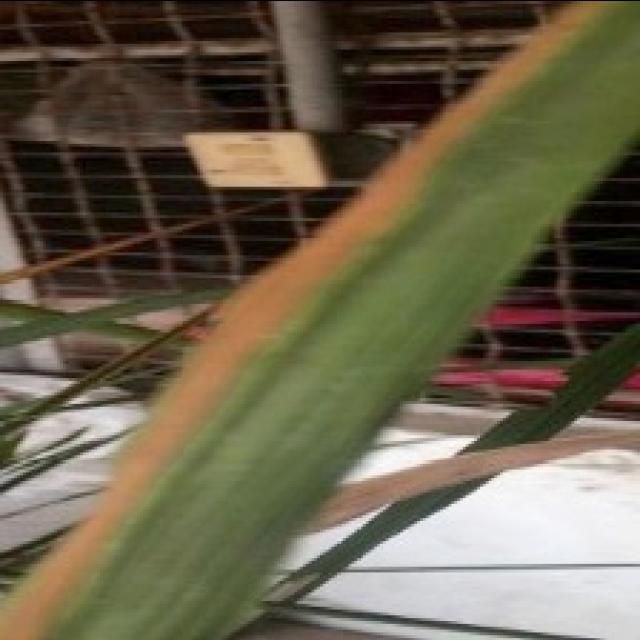Unhealthy: (0, 0, 628, 640), (306, 437, 640, 537)
